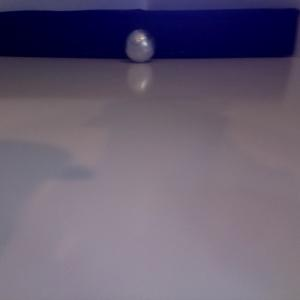zone: (1, 9, 300, 59)
